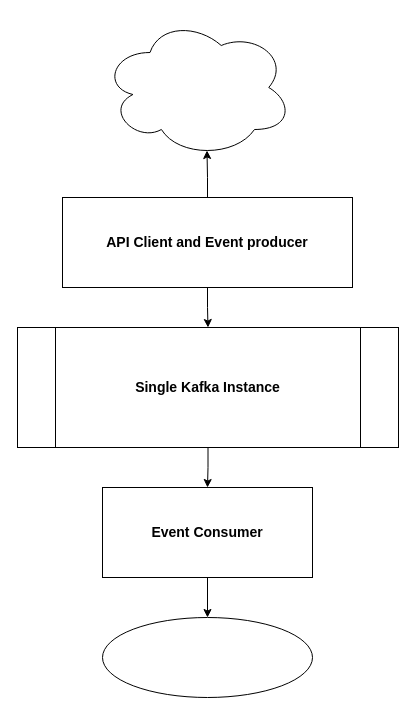
This 416x715 diagram has some shape labels left out. The shapes that lost their labels are listed below. From the top down, each one's box as (x1, y1, x2, y2) in pixels, then its label:
(102, 16, 292, 158): Data source API
(102, 616, 312, 698): Stdout or Log file
